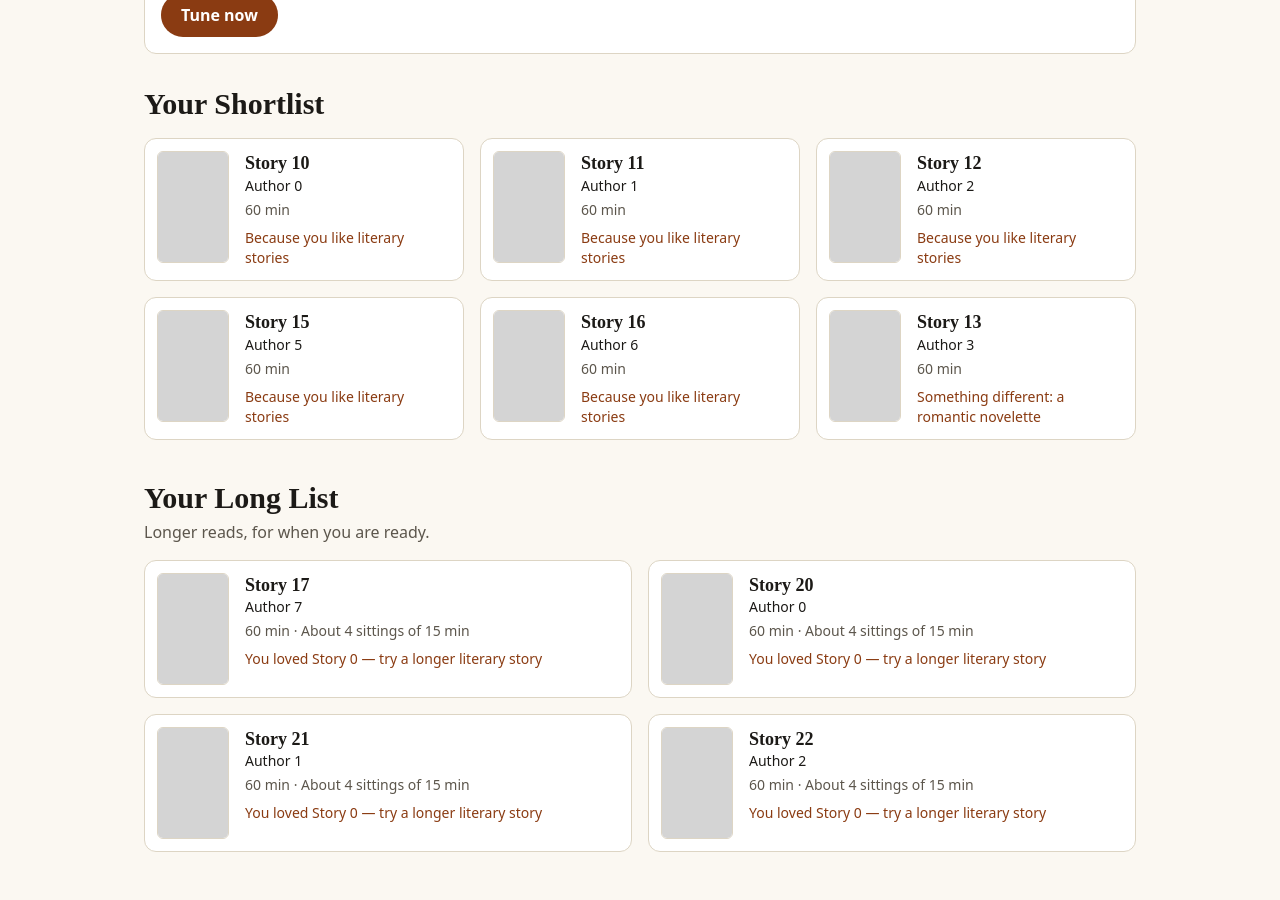
Test case: Your Long List › opens the same detail sheet, and records a tap
(page scrolled)
Click the button that starts with "Story 17": (388, 628) top-left (144, 560), bottom-right (632, 698)
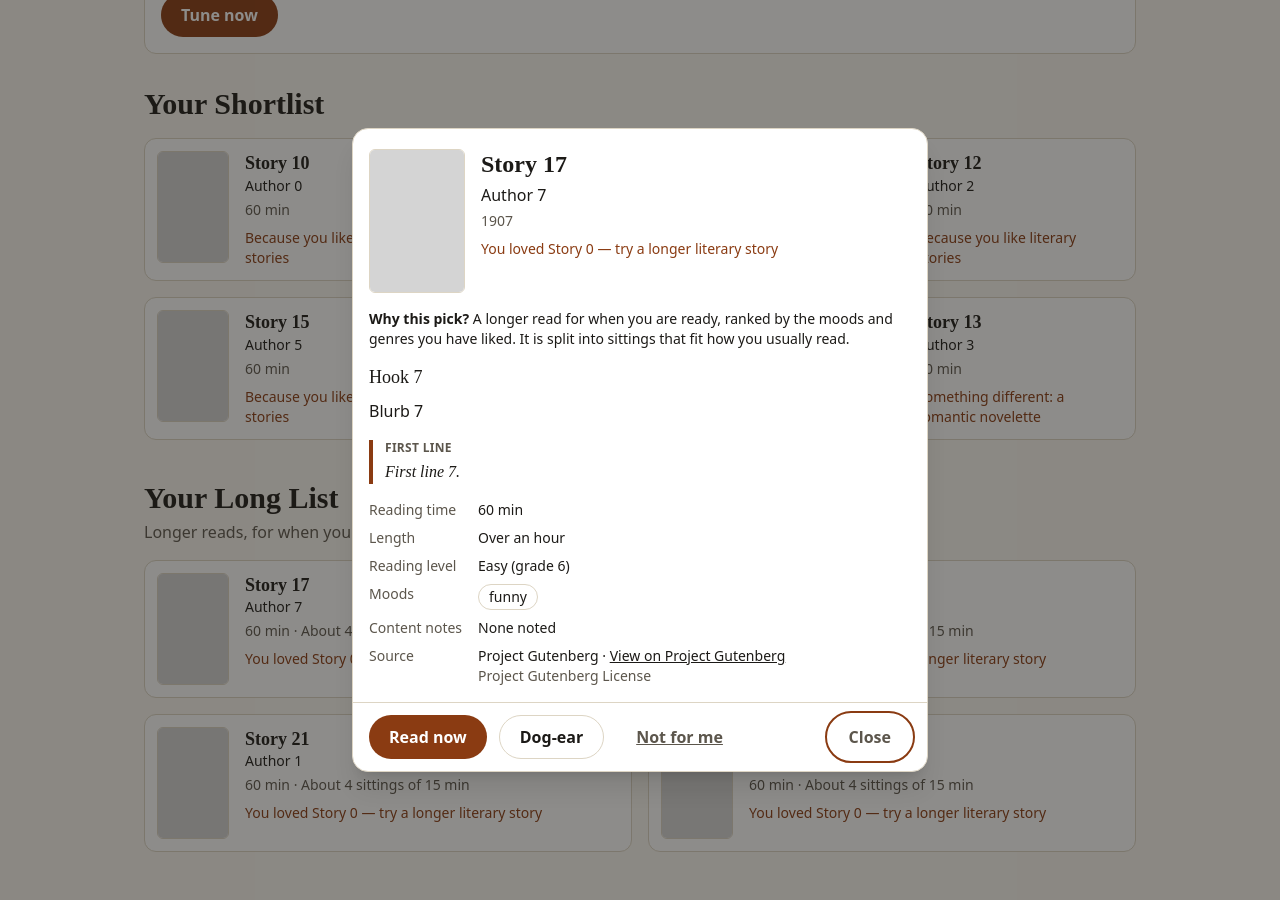
Now the button "Dog-ear" is shown, box top-left (499, 715), bottom-right (604, 759)
Now the button "Not for me" is shown, box top-left (616, 715), bottom-right (743, 759)
Now the element with test id "why-this-pick" shows "longer read", box top-left (369, 309), bottom-right (893, 348)
